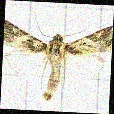Spodoptera litura: (3, 11, 112, 101)
